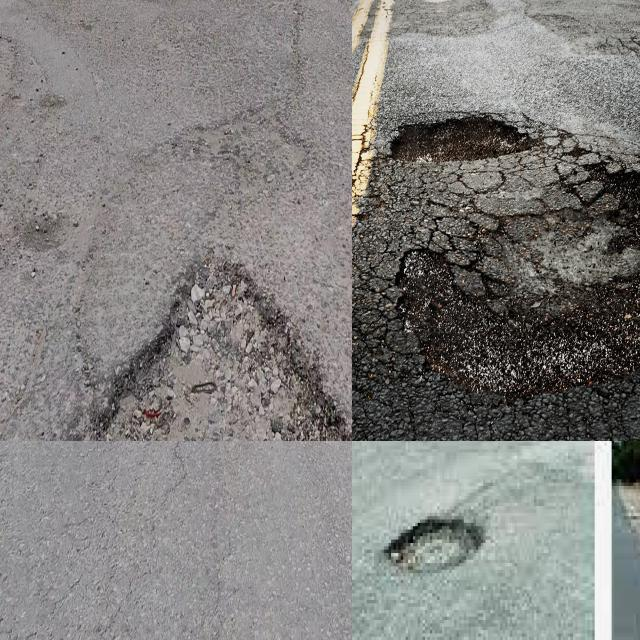Pothole: (397, 165, 640, 401), (93, 254, 352, 441), (390, 110, 533, 171), (386, 519, 486, 576)
